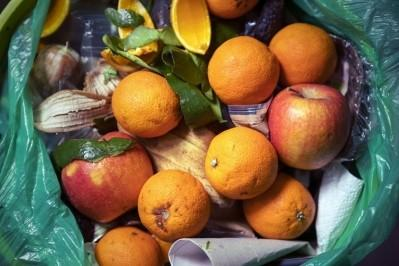organic: (61, 132, 157, 225), (267, 83, 352, 169), (205, 127, 279, 201), (137, 169, 211, 242), (241, 171, 316, 241), (208, 36, 281, 106), (112, 69, 183, 138), (269, 22, 338, 86), (35, 90, 113, 133), (46, 136, 138, 168), (170, 1, 212, 55)
